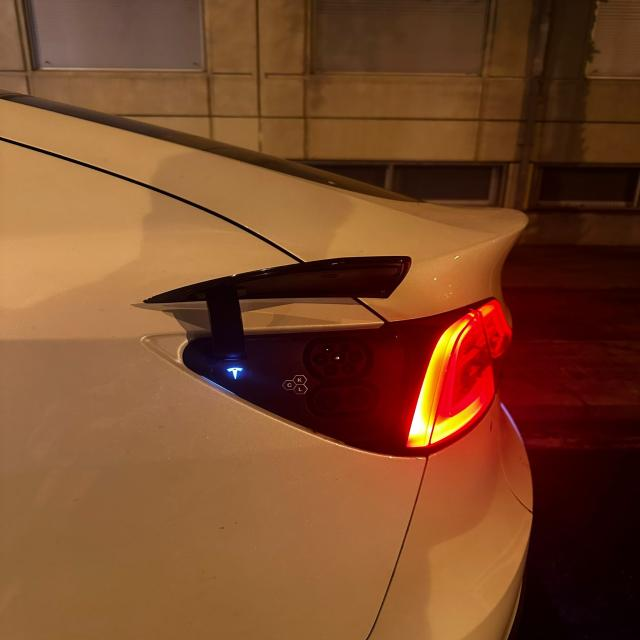inlet: (310, 341, 366, 380)
inlet-above-left: (323, 345, 333, 353)
inlet-above-right: (340, 344, 351, 352)
inlet-below-left: (323, 364, 339, 376)
inlet-below-right: (341, 362, 357, 375)
inlet-circle: (330, 351, 346, 364)
inlet-circle-left: (313, 352, 329, 365)
inlet-circle-right: (348, 350, 363, 362)
inlet-minus: (345, 388, 370, 408)
inlet-plus: (316, 390, 342, 411)
